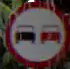No overtake: (4, 0, 69, 68)
